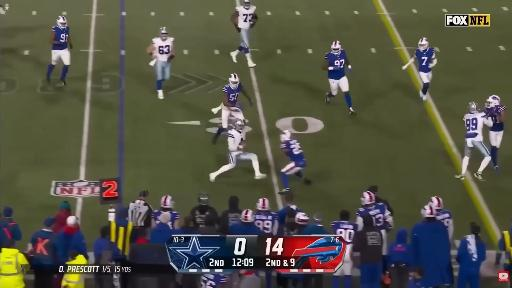Helmet: (361, 192, 375, 205), (486, 95, 500, 108), (421, 205, 436, 217), (430, 197, 443, 210), (240, 210, 254, 222), (256, 198, 269, 210), (232, 119, 245, 131), (295, 213, 309, 224), (229, 74, 239, 89), (161, 196, 173, 208), (280, 130, 291, 142), (331, 41, 341, 53), (468, 102, 478, 113), (57, 16, 66, 28), (419, 38, 428, 50), (160, 27, 167, 40), (244, 0, 250, 8)
Jersey: (356, 203, 390, 229), (464, 112, 492, 141), (325, 50, 346, 79), (331, 221, 357, 244), (254, 211, 278, 235), (280, 140, 305, 162), (152, 38, 173, 61), (415, 48, 435, 72), (436, 210, 453, 238), (222, 83, 242, 106), (236, 6, 256, 29), (229, 222, 262, 235), (52, 26, 69, 50), (201, 274, 227, 287), (227, 129, 242, 151), (490, 115, 503, 131), (168, 211, 179, 229)
Player: (210, 119, 266, 181), (456, 102, 492, 180), (213, 74, 252, 143), (356, 192, 393, 258), (322, 41, 355, 114), (403, 38, 437, 101), (279, 131, 311, 194), (331, 210, 357, 287), (147, 27, 174, 99), (47, 16, 72, 86), (231, 0, 257, 67), (486, 95, 506, 171), (430, 197, 453, 239), (254, 198, 279, 235), (152, 196, 179, 229), (254, 198, 278, 235), (229, 210, 262, 235), (201, 274, 227, 287)
